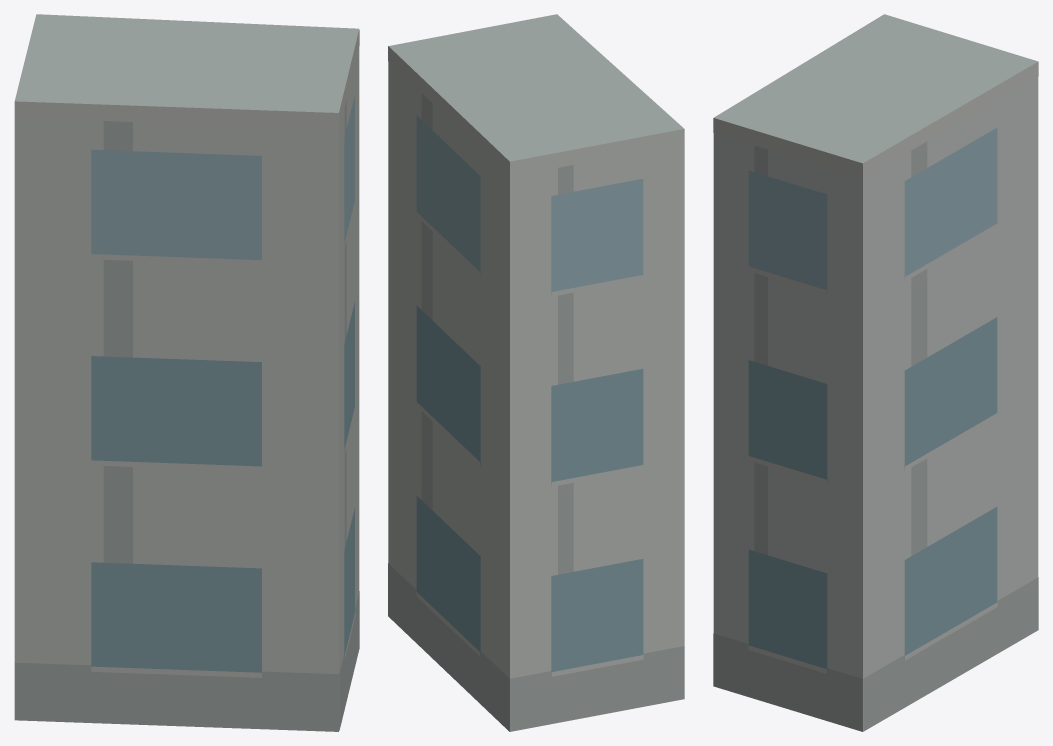
Rendered from survey-upis-33047635.glb.
3 renders of one model, left to right at view 1: azimuth 30°, elevation 25°; view 2: azimuth 150°, elevation 25°; view 3: azimuth 270°, elevation 25°, orthographic. The views are drawn at different scales.
Parts seen in each view (by area): view 1: survey-upis-33047635.tmp; view 2: survey-upis-33047635.tmp; view 3: survey-upis-33047635.tmp.
Part boxes in pixels (x1=…): survey-upis-33047635.tmp: x1=14, y1=14, x2=359, y2=731; survey-upis-33047635.tmp: x1=388, y1=14, x2=684, y2=731; survey-upis-33047635.tmp: x1=713, y1=14, x2=1038, y2=731.
Size of the model in its own units: 5.16 by 9.15 by 4.75.
